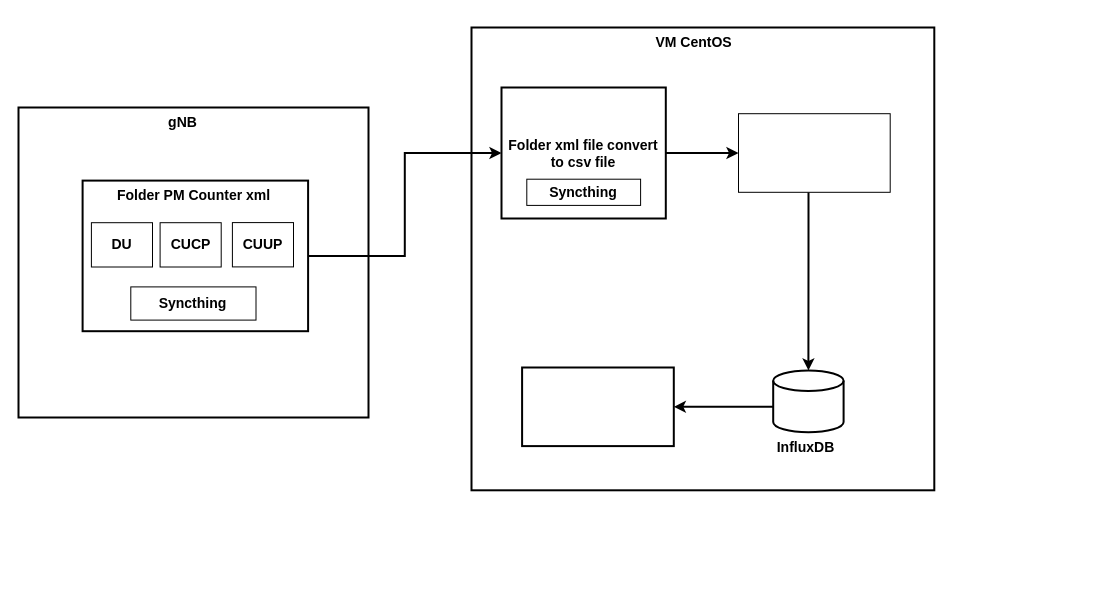
Some shapes in this 1098 by 604 pixel diagram are drawn without their labels. Here are the shapes that lost their labels. From the top down, the centre of each, then its label:
pixel 814 152: telegraf
pixel 597 406: Grafana
